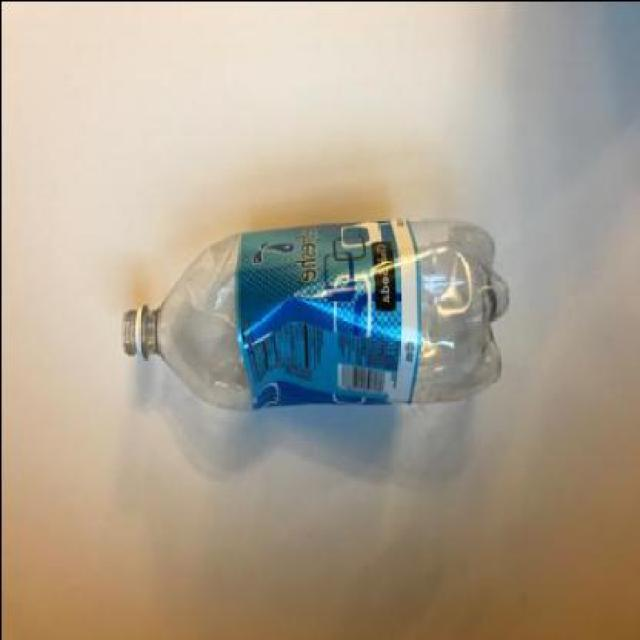PLASTIC: (118, 220, 505, 412), (230, 218, 416, 412)
